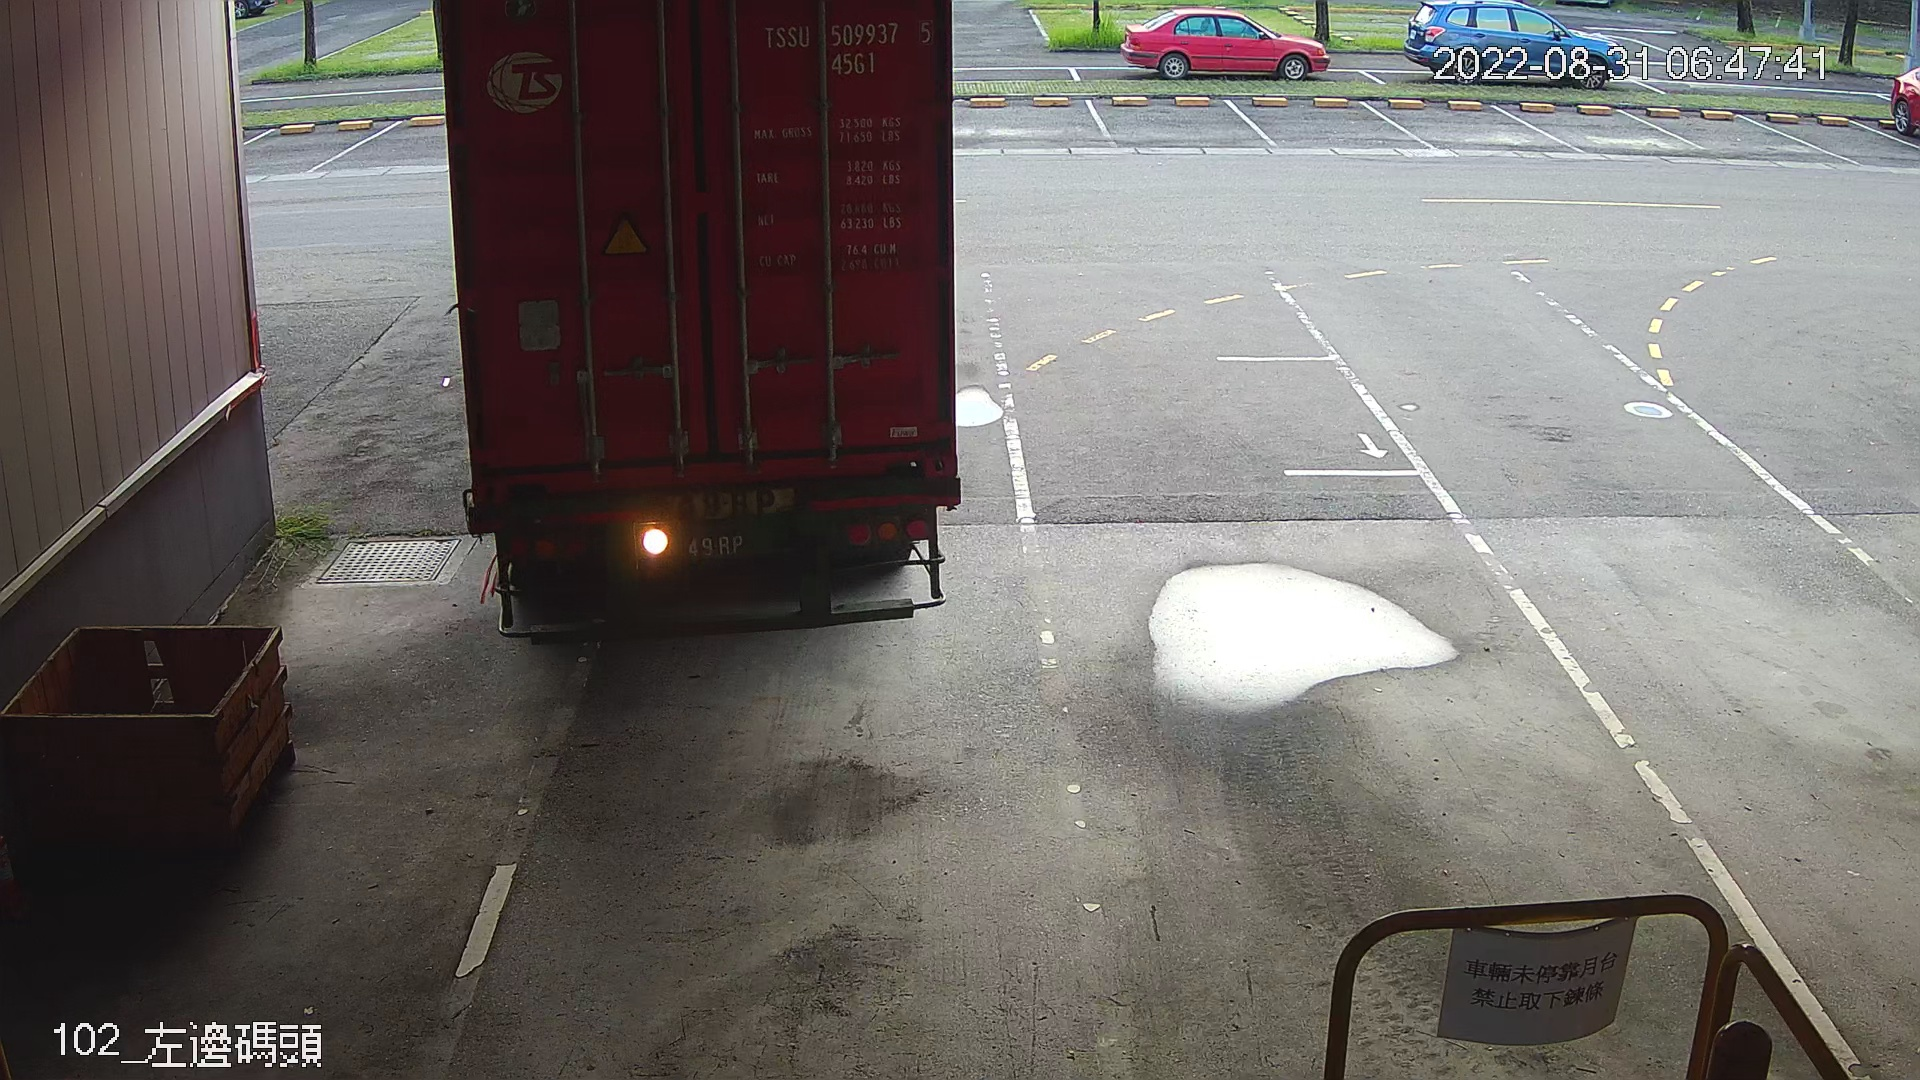container: (756, 11, 938, 84)
